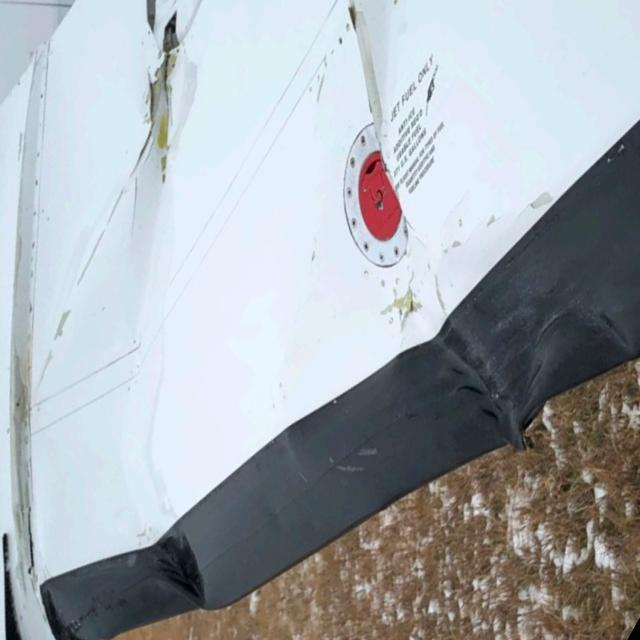crack: (143, 0, 186, 188), (400, 292, 422, 324)
